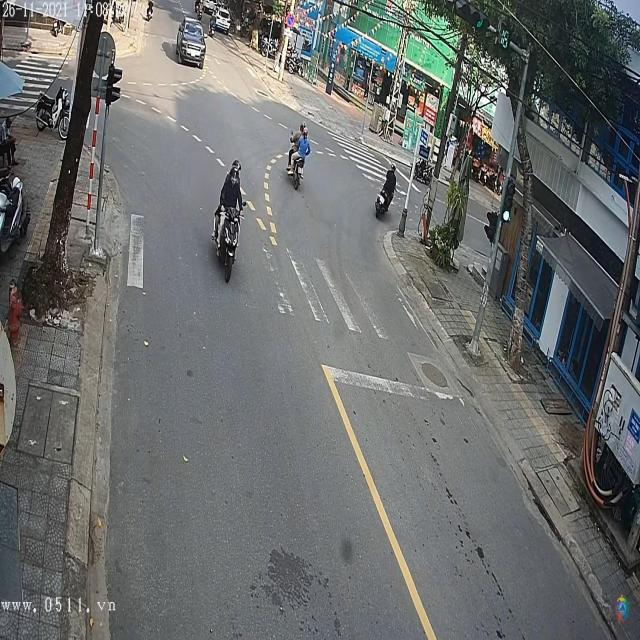car: (174, 20, 207, 68)
motorcycle: (211, 196, 245, 288), (372, 180, 394, 222), (286, 150, 305, 191)
